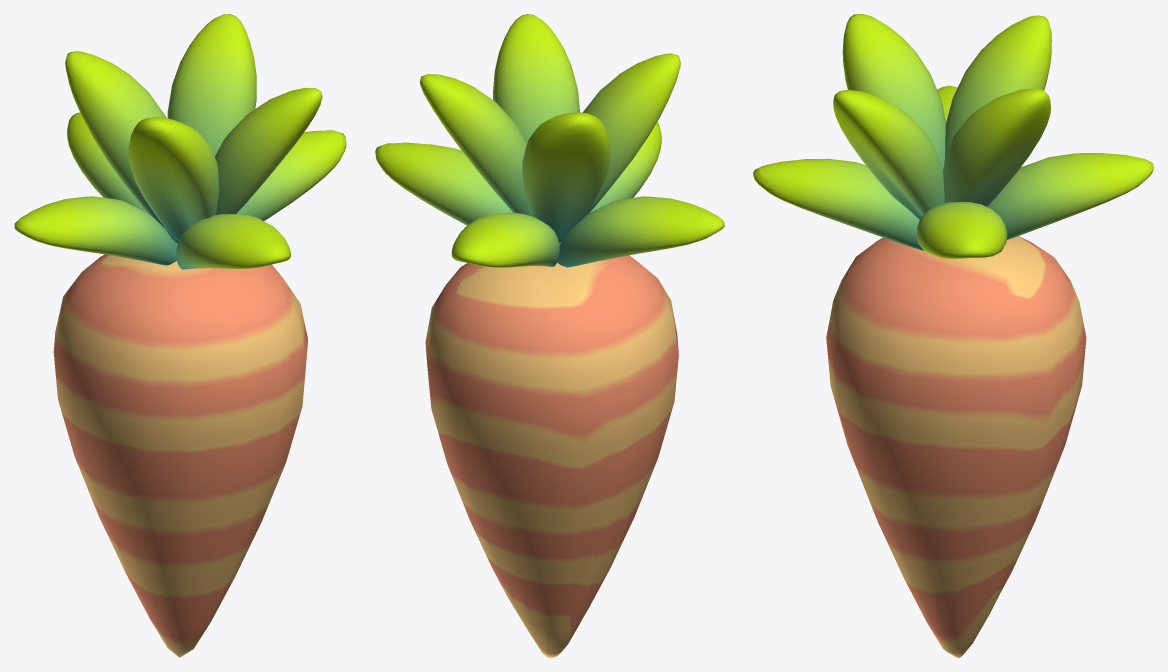
The model's file is carrot.fbx.
The picture shows the model from 3 angles, left to right: view 1: azimuth 30°, elevation 25°; view 2: azimuth 150°, elevation 25°; view 3: azimuth 270°, elevation 25°; orthographic projection. The views are drawn at different scales.
Parts seen in each view (by area): view 1: beet.001, Cube.015, Cube.014; view 2: beet.001, Cube.015, Cube.014; view 3: beet.001, Cube.015, Cube.014.
Part boxes in pixels (x1,y1,x2,y2): beet.001: (53,254,307,657); Cube.015: (65,14,322,243); Cube.014: (14,112,346,269); beet.001: (425,255,678,657); Cube.015: (419,14,680,243); Cube.014: (375,122,724,267); beet.001: (826,236,1086,657); Cube.015: (833,14,1051,219); Cube.014: (753,85,1153,258).
Bounding box in the file's own units: 883 × 1484 × 884.
Materials: 1 (1 with a texture image).
